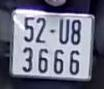2: (35, 17, 47, 46)
3: (20, 46, 34, 74)
5: (21, 15, 35, 43)
6: (66, 48, 80, 75), (53, 48, 65, 75), (38, 47, 48, 73)
8: (71, 18, 82, 48)
U: (59, 18, 70, 45)
